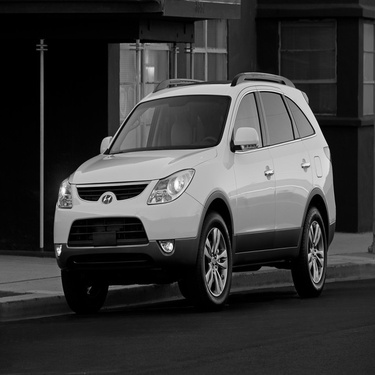car: (40, 65, 339, 315)
